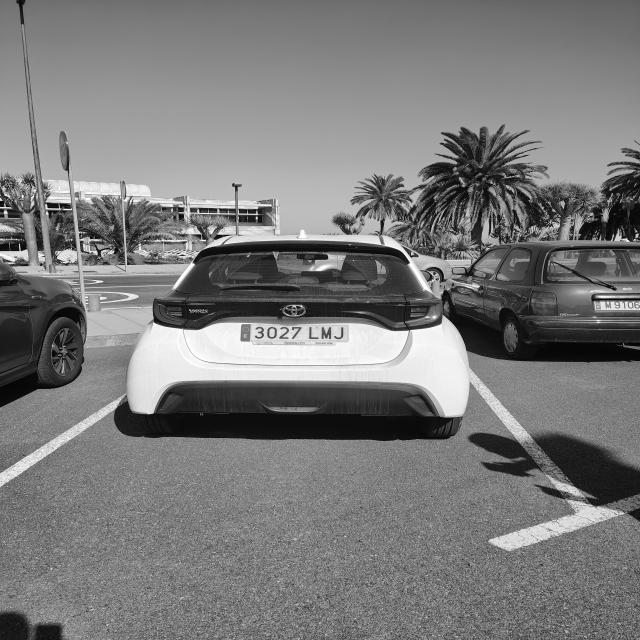License-Plate: (241, 323, 349, 342)
